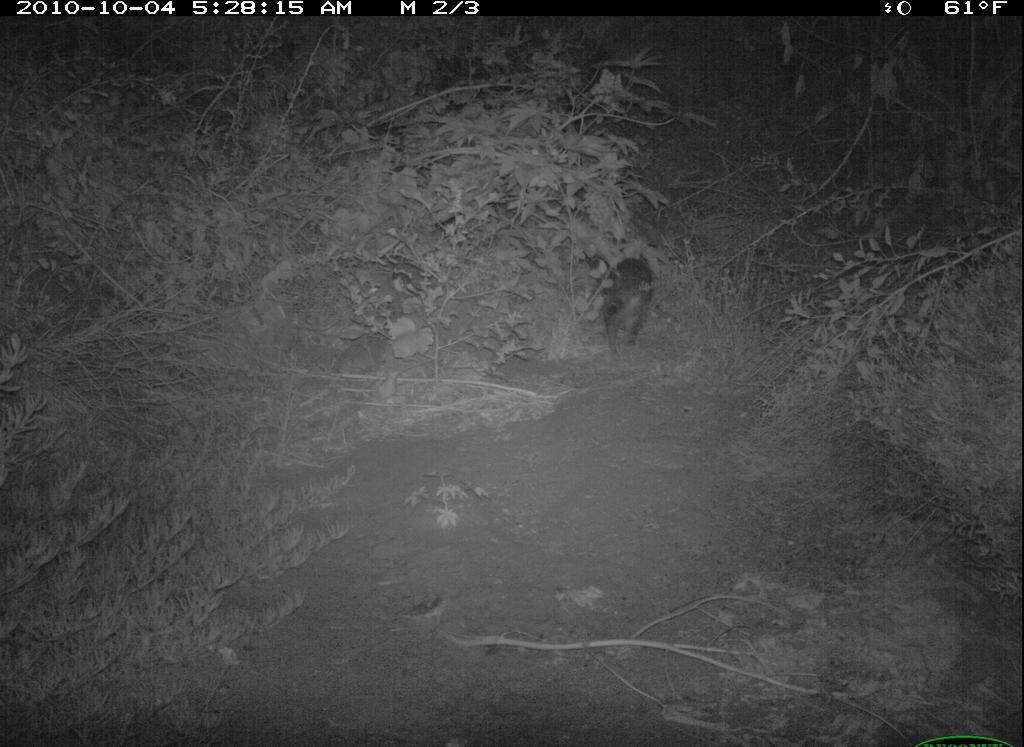raccoon: (595, 238, 658, 359)
